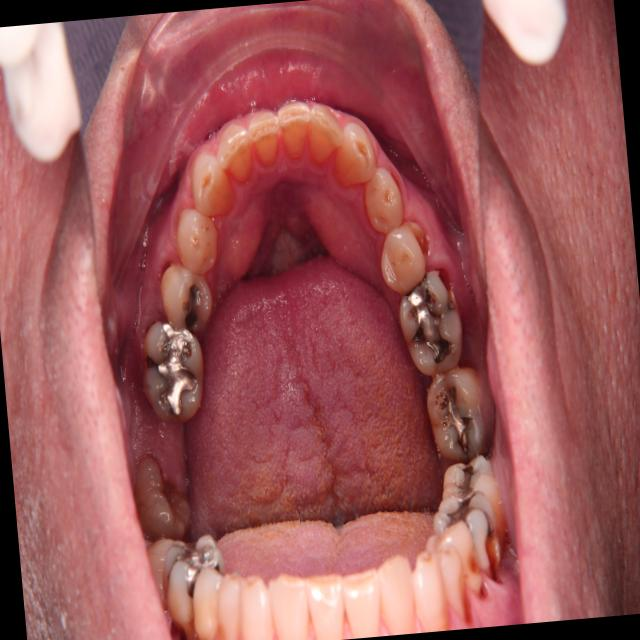tooth: (131, 308, 216, 438), (387, 260, 473, 382), (417, 358, 499, 466), (124, 444, 197, 548), (372, 211, 437, 301), (154, 254, 218, 338), (326, 109, 381, 198), (168, 199, 227, 281), (186, 145, 241, 225), (357, 157, 407, 239), (211, 115, 256, 192), (272, 89, 317, 164), (304, 96, 348, 168), (243, 105, 284, 172)
